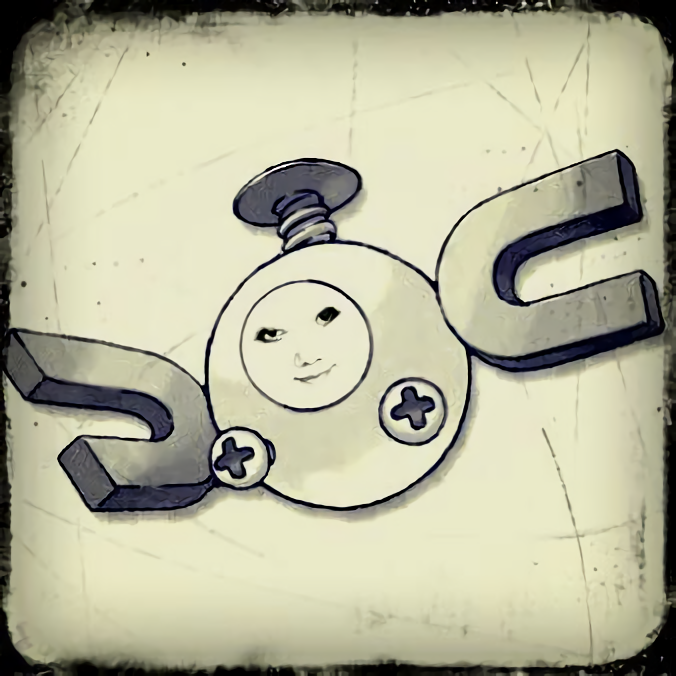dragon: (255, 301, 354, 393)
